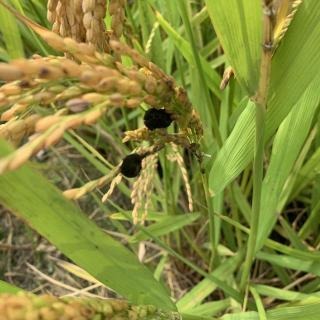Gosong-Palsu: (143, 106, 174, 131), (118, 153, 146, 180)
